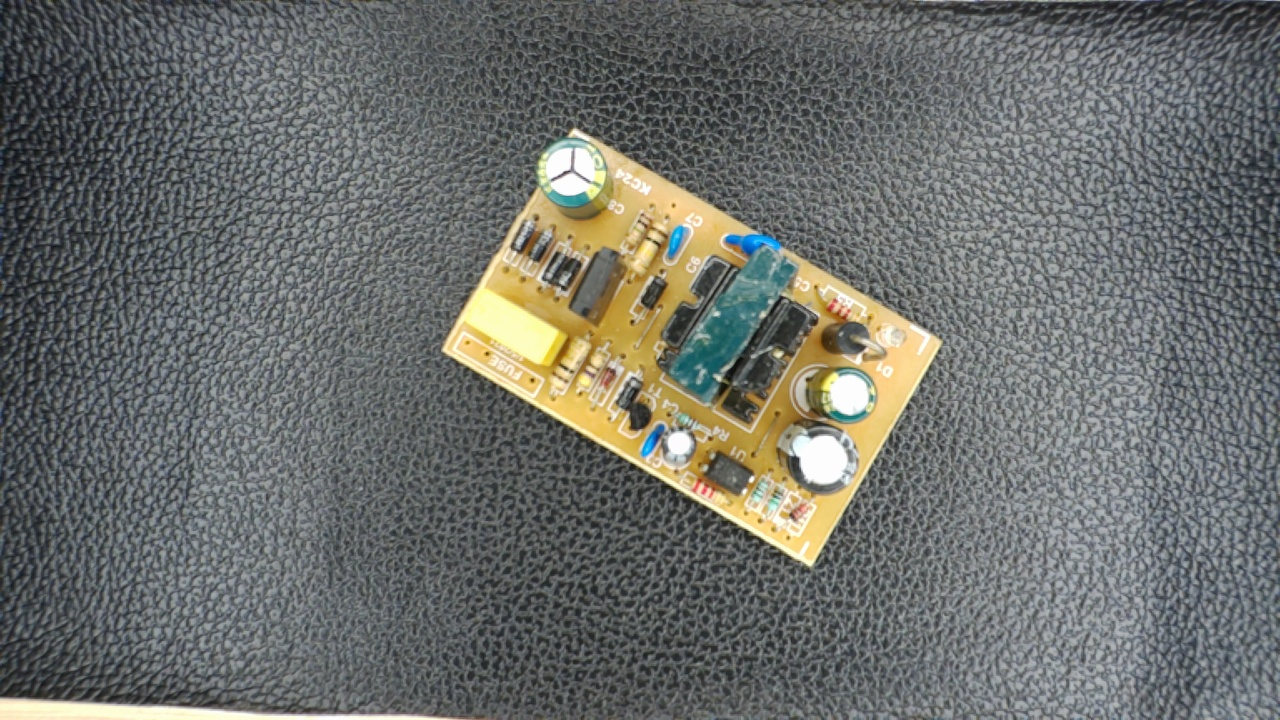hv_capacitor: (534, 138, 611, 221)
mov: (720, 228, 786, 261)
optocoupler: (698, 444, 755, 500)
